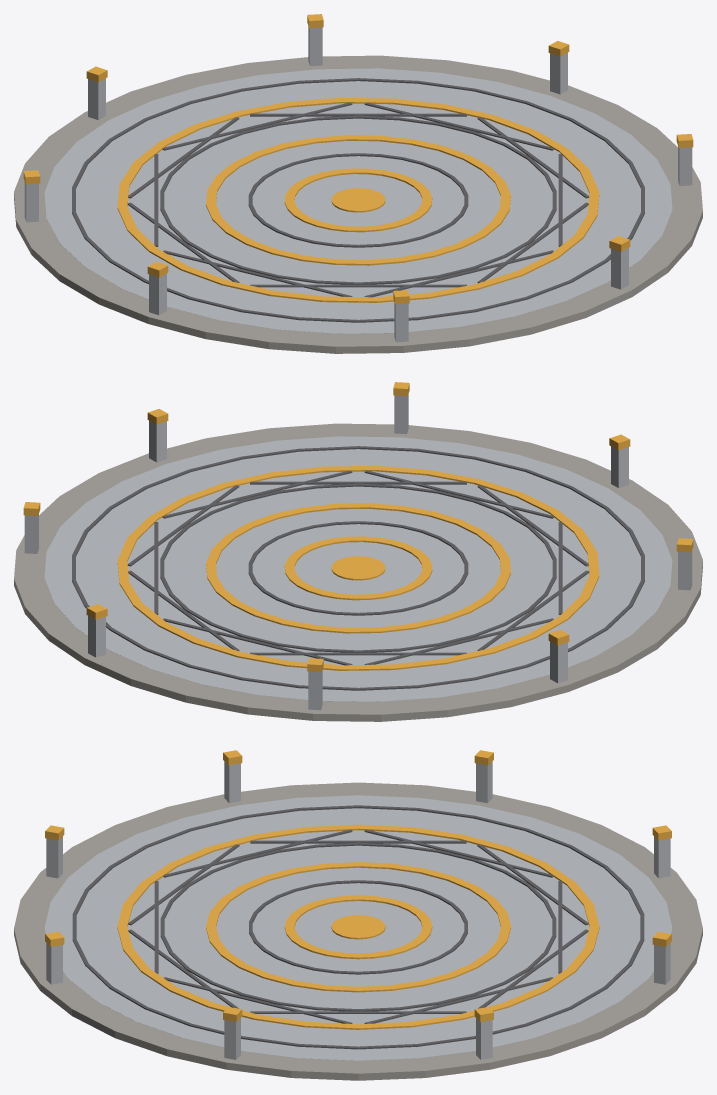
Rendered from landing-pad-6b137fe7.glb.
3 renders of one model, top to bottom at view 1: azimuth 30°, elevation 25°; view 2: azimuth 150°, elevation 25°; view 3: azimuth 270°, elevation 25°, orthographic.
Visible parts, largest first — view 1: landing-pad; view 2: landing-pad; view 3: landing-pad.
Boxes of the visible parts, left/top/right/bottom form: landing-pad: left=14, top=14, right=702, bottom=353; landing-pad: left=14, top=382, right=702, bottom=721; landing-pad: left=14, top=750, right=702, bottom=1080.
Bounding box in the file's own units: 14 × 1.34 × 14.
